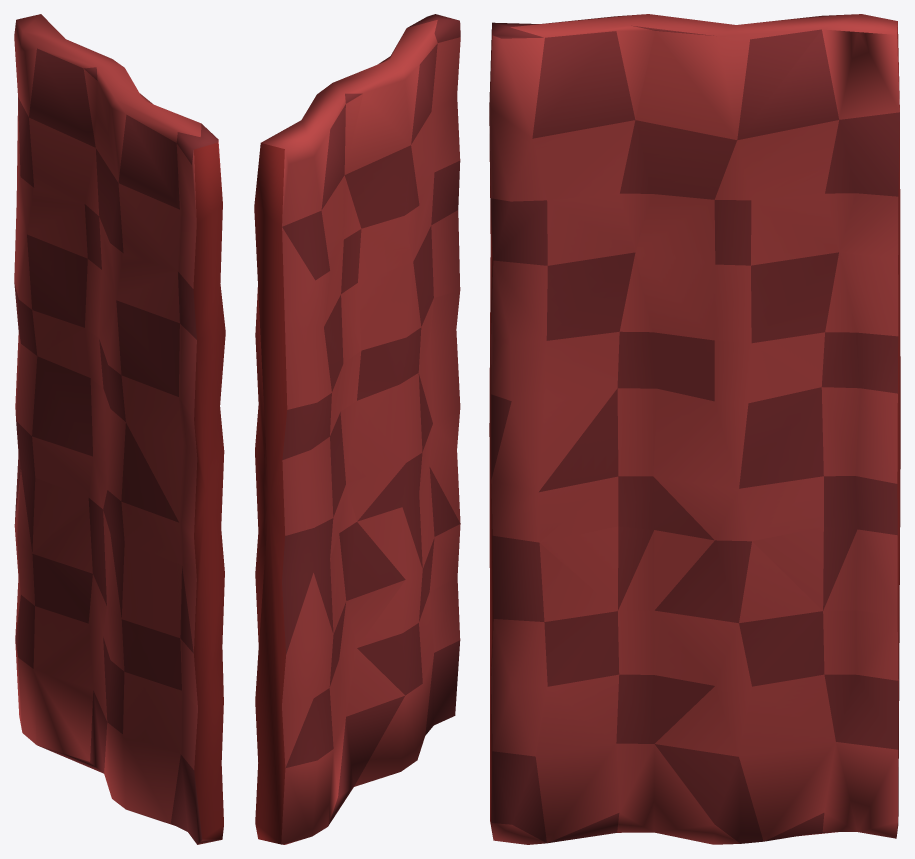
File: den_duvet_drape_lod2.glb
The picture shows the model from 3 angles, left to right: view 1: azimuth 30°, elevation 25°; view 2: azimuth 150°, elevation 25°; view 3: azimuth 270°, elevation 25°; orthographic projection. The views are drawn at different scales.
Visible parts, largest first — view 1: den_duvet_drape.001; view 2: den_duvet_drape.001; view 3: den_duvet_drape.001.
Boxes of the visible parts, box(x1,y1,x2,y2) form: den_duvet_drape.001: box(14, 14, 225, 844); den_duvet_drape.001: box(254, 14, 460, 844); den_duvet_drape.001: box(489, 14, 900, 844).
Bounding box in the file's own units: 4.48 × 52.01 × 24.01.
